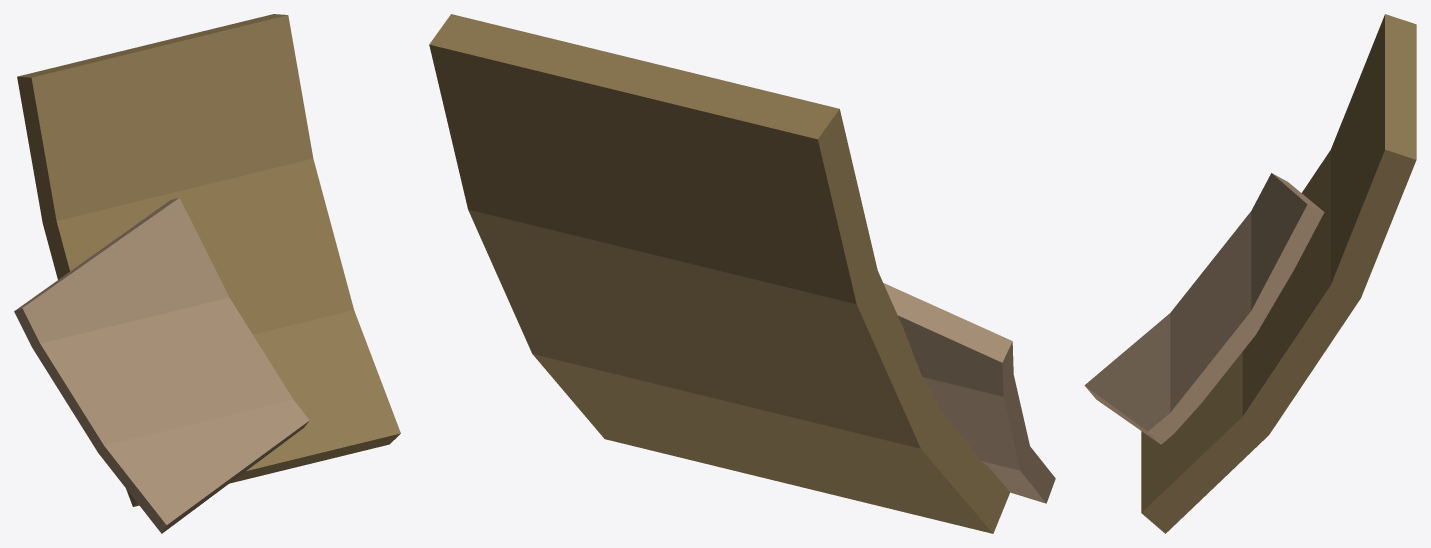
File: LP_PostApoc_Sheets.fbx
The picture shows the model from 3 angles, left to right: view 1: azimuth 30°, elevation 25°; view 2: azimuth 150°, elevation 25°; view 3: azimuth 270°, elevation 25°; orthographic projection. The views are drawn at different scales.
Visible parts, largest first — view 1: Sheets; view 2: Sheets; view 3: Sheets.
Part boxes in pixels (x1,y1,x2,y2): Sheets: [14, 14, 400, 533]; Sheets: [429, 14, 1055, 533]; Sheets: [1084, 14, 1416, 533].
Bounding box in the file's own units: 160 × 171 × 133.
